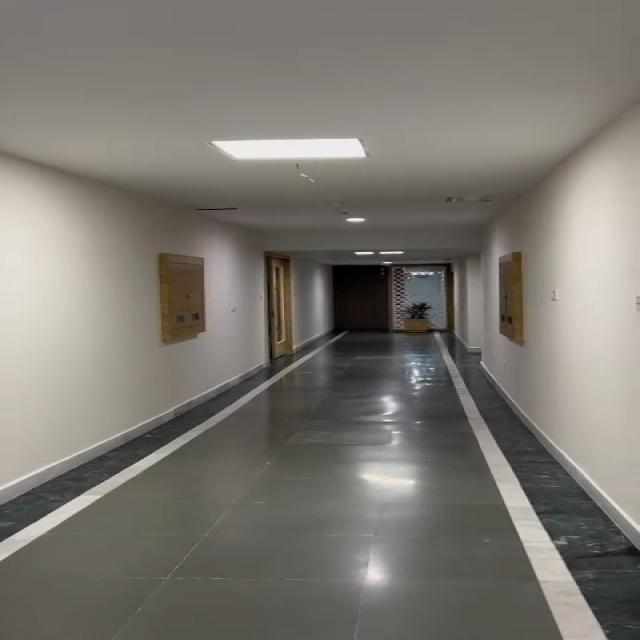door: (344, 242, 468, 342)
floor: (198, 373, 558, 640), (472, 52, 640, 426)
furniture: (377, 290, 447, 354)
wall: (0, 49, 313, 409)
